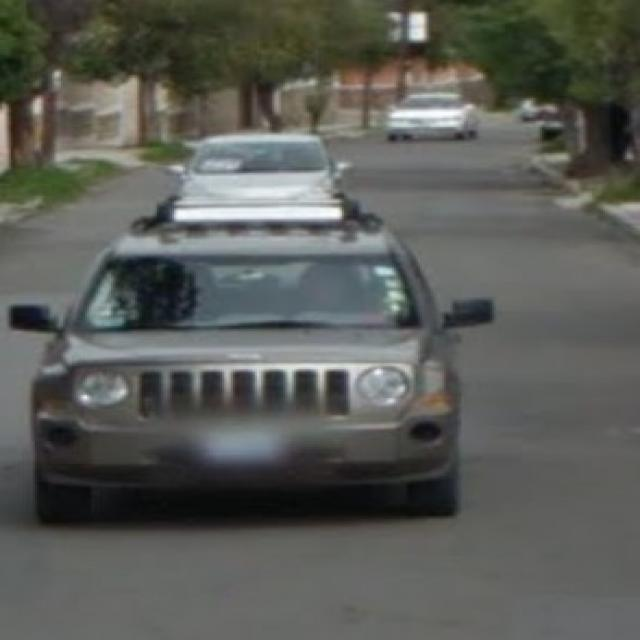cars: (52, 232, 455, 532), (192, 134, 337, 186), (371, 107, 491, 128)
